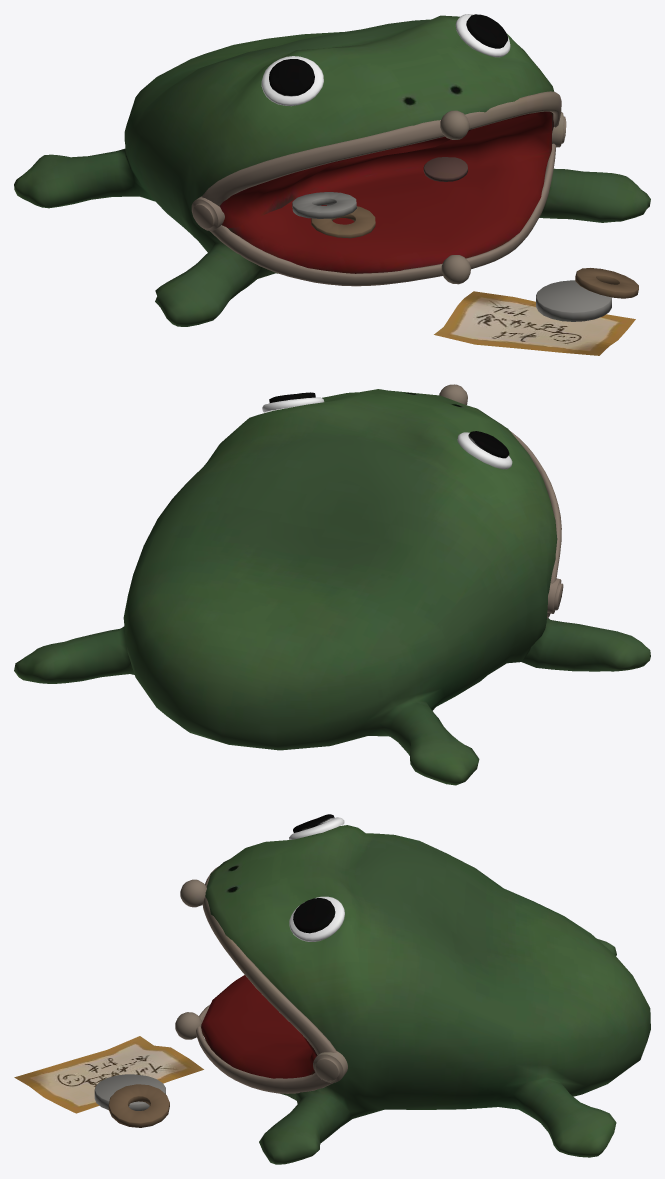
File: monedero.glb
The picture shows the model from 3 angles, top to bottom: view 1: azimuth 30°, elevation 25°; view 2: azimuth 150°, elevation 25°; view 3: azimuth 270°, elevation 25°; orthographic projection. The views are drawn at different scales.
Visible parts, largest first — view 1: defaultMaterial; view 2: defaultMaterial; view 3: defaultMaterial.
Boxes of the visible parts, box(x1,y1,x2,y2) form: defaultMaterial: box(14, 14, 650, 355); defaultMaterial: box(14, 384, 650, 785); defaultMaterial: box(14, 814, 650, 1164).
Size of the model in its own units: 0.3564 by 0.1542 by 0.4353.
1 material, 1 textured.
